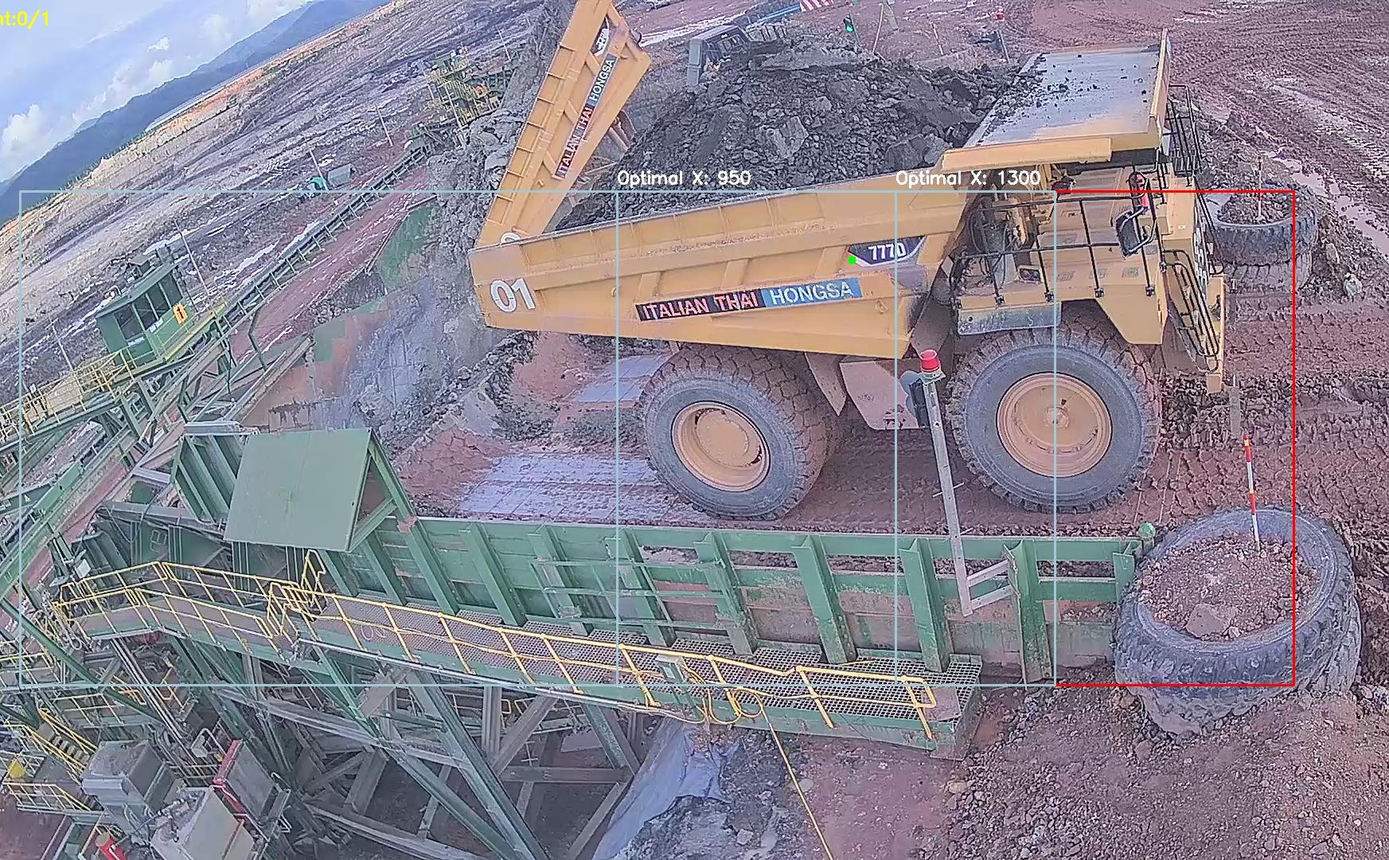company: (629, 276, 881, 323)
full_load: (654, 31, 981, 218)
mining_truck: (464, 15, 1247, 518)
tail_number: (483, 265, 541, 328)
truck_size: (846, 231, 920, 265)
